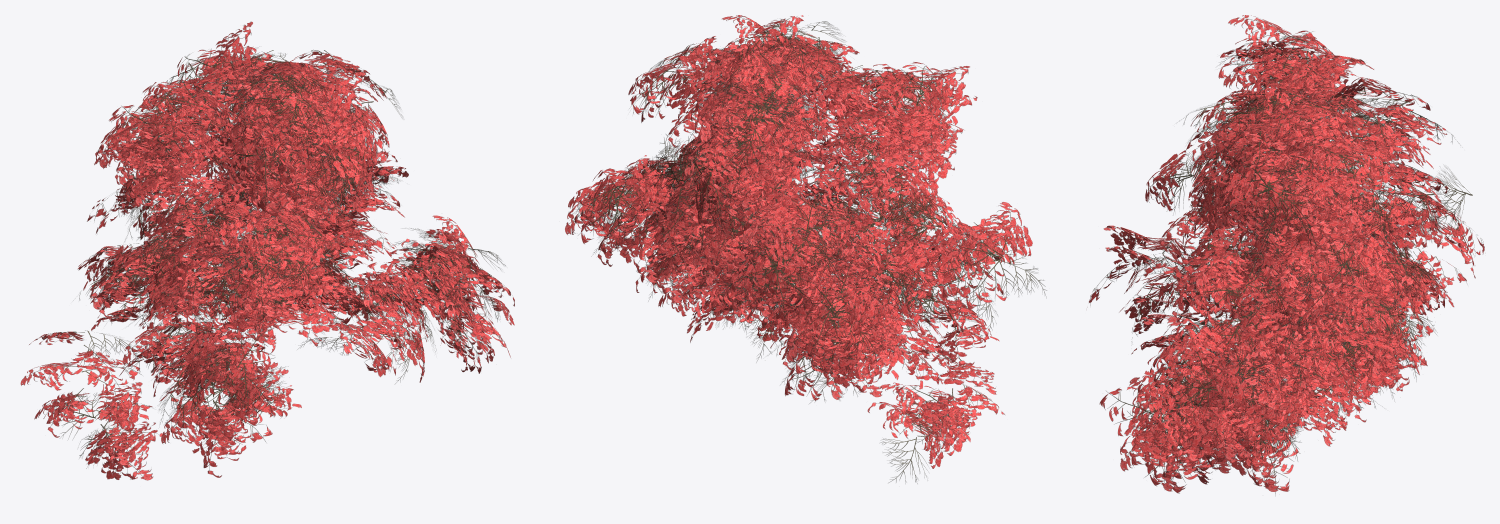
Rendered from maple_hojas.glb.
The picture shows the model from 3 angles, left to right: view 1: azimuth 30°, elevation 25°; view 2: azimuth 150°, elevation 25°; view 3: azimuth 270°, elevation 25°; orthographic projection. The views are drawn at different scales.
Visible parts, largest first — view 1: Object_10; view 2: Object_10; view 3: Object_10.
Part boxes in pixels (bbox=[...]): Object_10: bbox=[20, 21, 514, 480]; Object_10: bbox=[565, 15, 1046, 483]; Object_10: bbox=[1089, 15, 1484, 494].
Bounding box in the file's own units: 12.7 × 11.75 × 9.6.
1 material, 1 textured.
